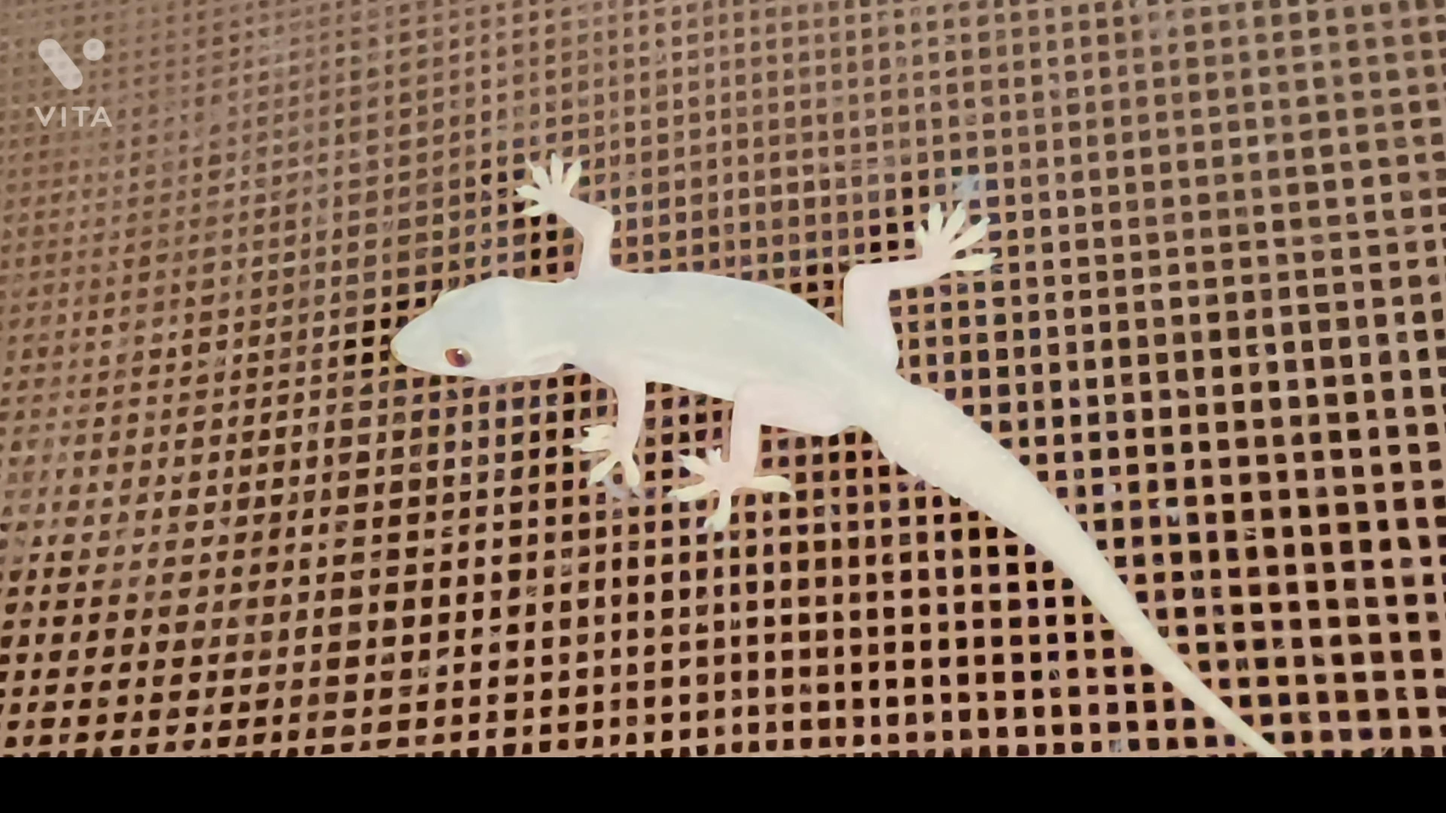lizard: (370, 142, 1293, 756)
